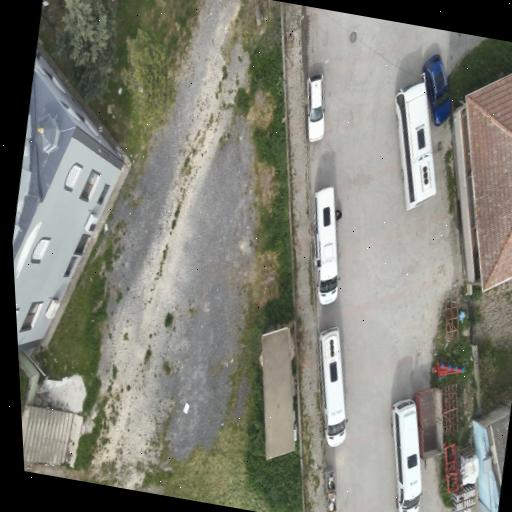bus: (394, 77, 435, 209), (389, 398, 420, 512), (318, 326, 346, 446), (313, 186, 337, 304)
car: (422, 54, 450, 125), (307, 74, 324, 140)
person: (334, 209, 341, 220)
